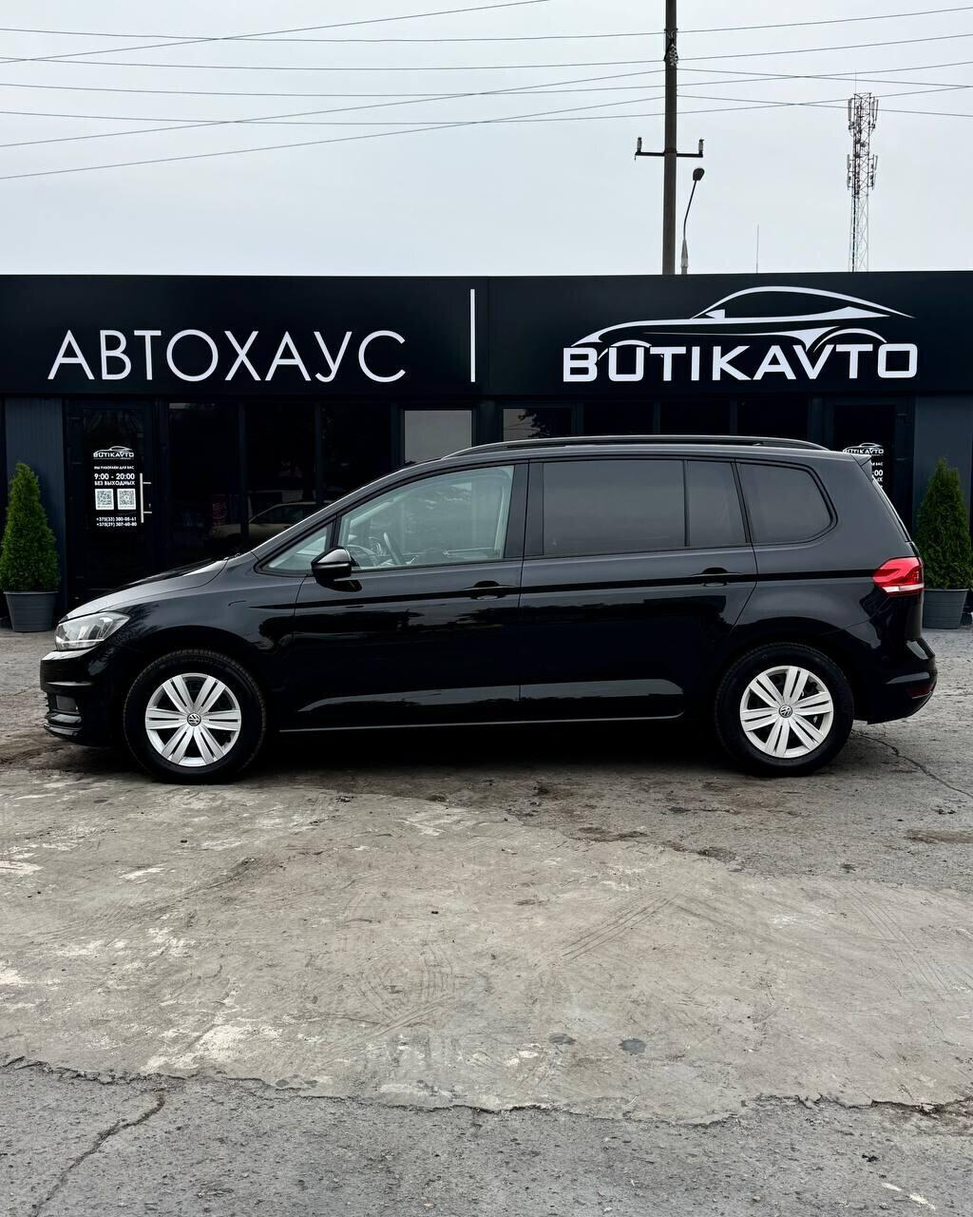Touran_2015: (38, 436, 942, 786)
